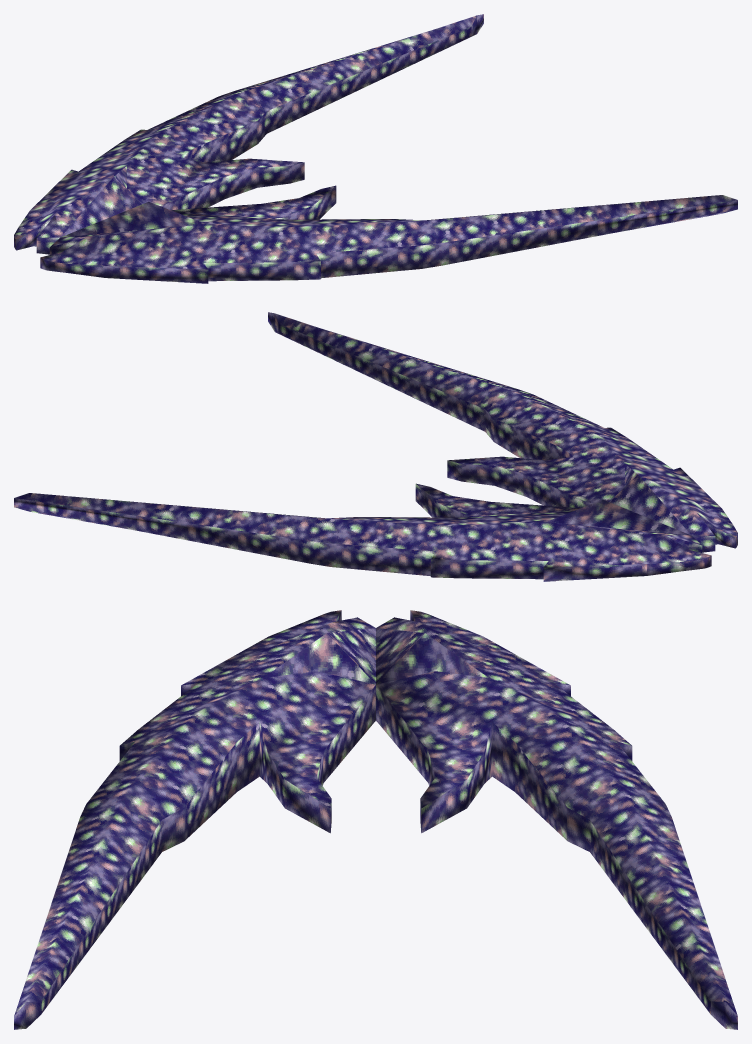
File: scv03.obj
The picture shows the model from 3 angles, top to bottom: view 1: azimuth 30°, elevation 25°; view 2: azimuth 150°, elevation 25°; view 3: azimuth 270°, elevation 25°; orthographic projection. The views are drawn at different scales.
Parts seen in each view (by area): view 1: SCV030; view 2: SCV030; view 3: SCV030.
Part boxes in pixels (x1,y1,x2,y2): SCV030: (14,14,737,283); SCV030: (14,312,737,581); SCV030: (14,610,737,1029).
Size of the model in its own units: 94.71 by 10.09 by 71.49.
Materials: 1 (1 with a texture image).
